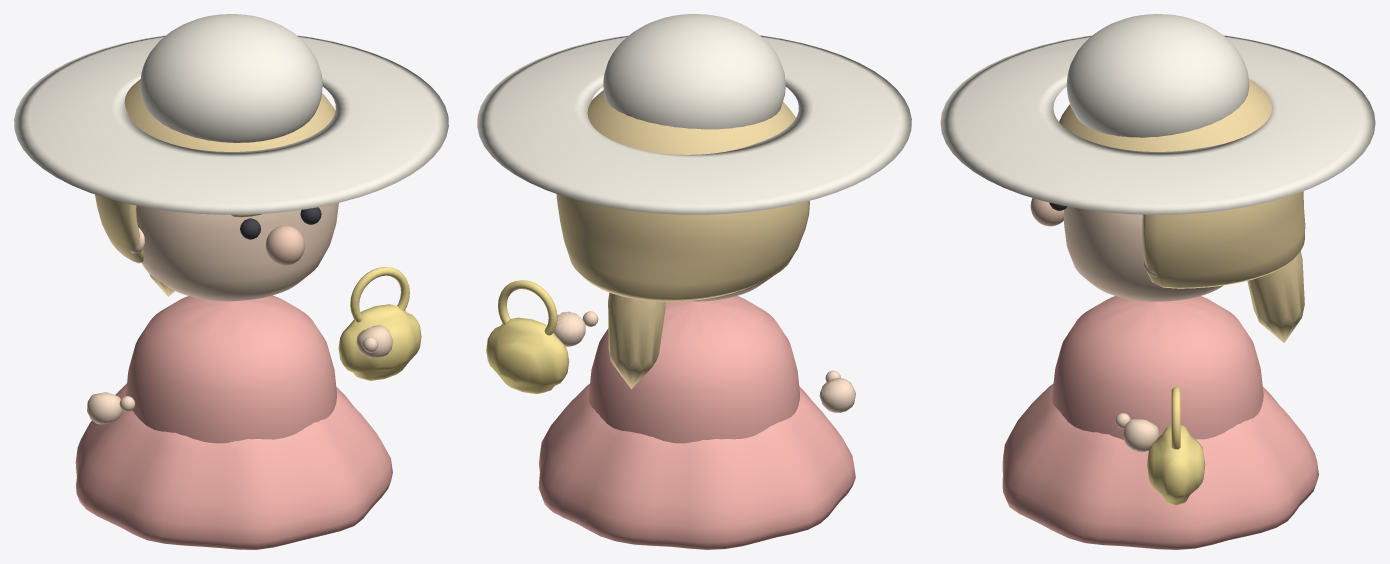
The model's file is Pedestrian_Sunhat.fbx.
3 views of the same model, side by side, from view 1: azimuth 30°, elevation 25°; view 2: azimuth 150°, elevation 25°; view 3: azimuth 270°, elevation 25° (orthographic).
Visible parts, largest first — view 1: PedBrim, PedSkirt, PedBody, PedHat, PedHead, PedHair, PedBag, PedNose, PedBagStrap, PedHandL, PedHandR; view 2: PedBrim, PedSkirt, PedHair, PedBody, PedHat, PedBag, PedTail, PedBagStrap, PedHandL, PedHandR; view 3: PedBrim, PedSkirt, PedBody, PedHat, PedHair, PedHead, PedBag, PedTail, PedHandR, PedNose, PedBagStrap.
Part boxes in pixels (left/top/right/bottom): PedBrim: left=14, top=35, right=448, bottom=214; PedSkirt: left=75, top=383, right=392, bottom=549; PedBody: left=125, top=295, right=336, bottom=443; PedHat: left=140, top=14, right=322, bottom=142; PedHead: left=136, top=203, right=338, bottom=301; PedHair: left=95, top=79, right=335, bottom=263; PedBag: left=338, top=304, right=421, bottom=380; PedNose: left=265, top=225, right=304, bottom=265; PedBagStrap: left=350, top=267, right=409, bottom=322; PedHandL: left=87, top=392, right=122, bottom=424; PedHandR: left=356, top=325, right=392, bottom=357; PedBrim: left=477, top=35, right=911, bottom=214; PedSkirt: left=538, top=384, right=855, bottom=549; PedHair: left=556, top=90, right=809, bottom=301; PedBody: left=588, top=296, right=799, bottom=443; PedHat: left=603, top=14, right=785, bottom=129; PedBag: left=486, top=317, right=569, bottom=393; PedTail: left=608, top=292, right=665, bottom=389; PedBagStrap: left=498, top=280, right=557, bottom=335; PedHandL: left=819, top=378, right=855, bottom=412; PedHandR: left=553, top=311, right=585, bottom=346; PedBrim: left=940, top=35, right=1375, bottom=214; PedSkirt: left=1002, top=383, right=1318, bottom=549; PedBody: left=1052, top=296, right=1263, bottom=439; PedHat: left=1066, top=14, right=1249, bottom=137; PedHair: left=1059, top=79, right=1305, bottom=288; PedHead: left=1064, top=206, right=1223, bottom=301; PedBag: left=1147, top=425, right=1205, bottom=505; PedTail: left=1247, top=251, right=1304, bottom=342; PedHandR: left=1123, top=418, right=1159, bottom=452; PedNose: left=1030, top=198, right=1063, bottom=226; PedBagStrap: left=1171, top=387, right=1180, bottom=449.
Bounding box in the file's own units: 146 × 168 × 143.
